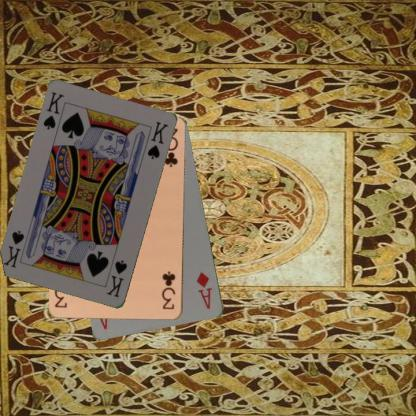3c: (159, 269, 177, 311)
Ad: (194, 269, 214, 311)
Ks: (40, 90, 66, 131), (104, 257, 129, 299)
